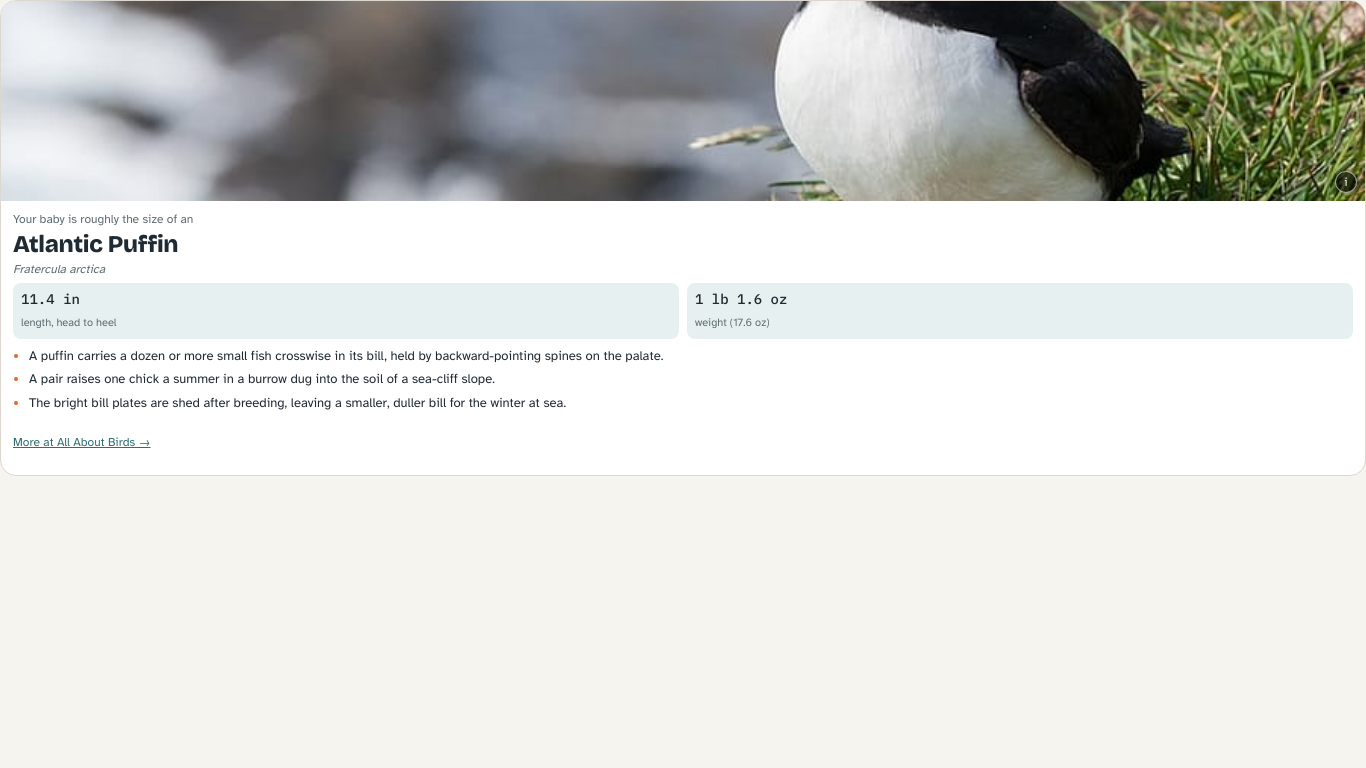
Test: ComparisonCard › opens the weight chart from the weight inset
The image size is (1366, 768).
Click the button "1 lb 1.6 oz weight (17.6 oz)": {"x": 741, "y": 299} [687,283,1353,339]
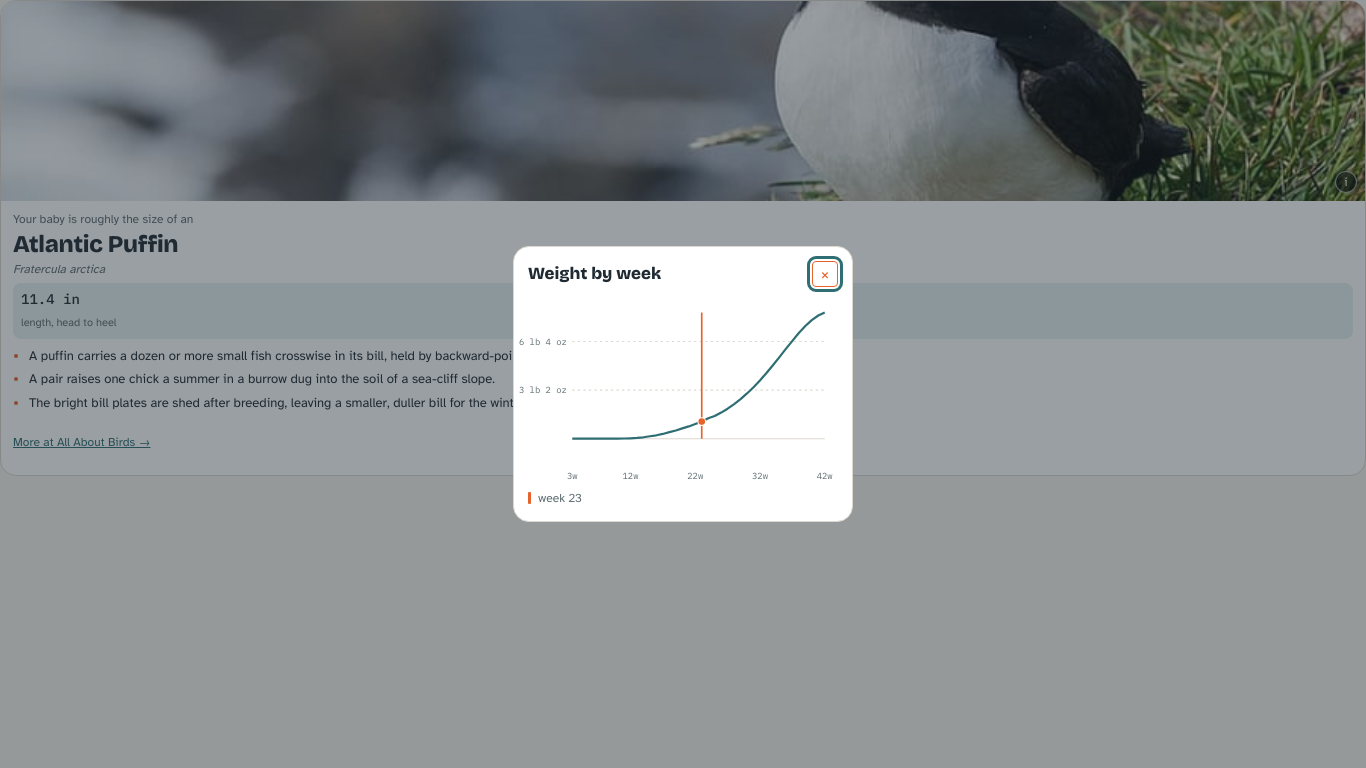
Result: the dialog "Weight by week" is shown at [513,246,853,522]
